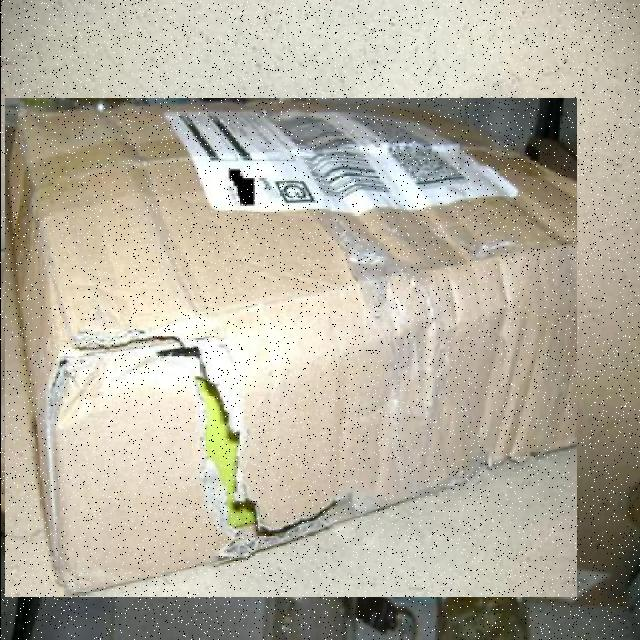defect: (4, 98, 576, 597)
